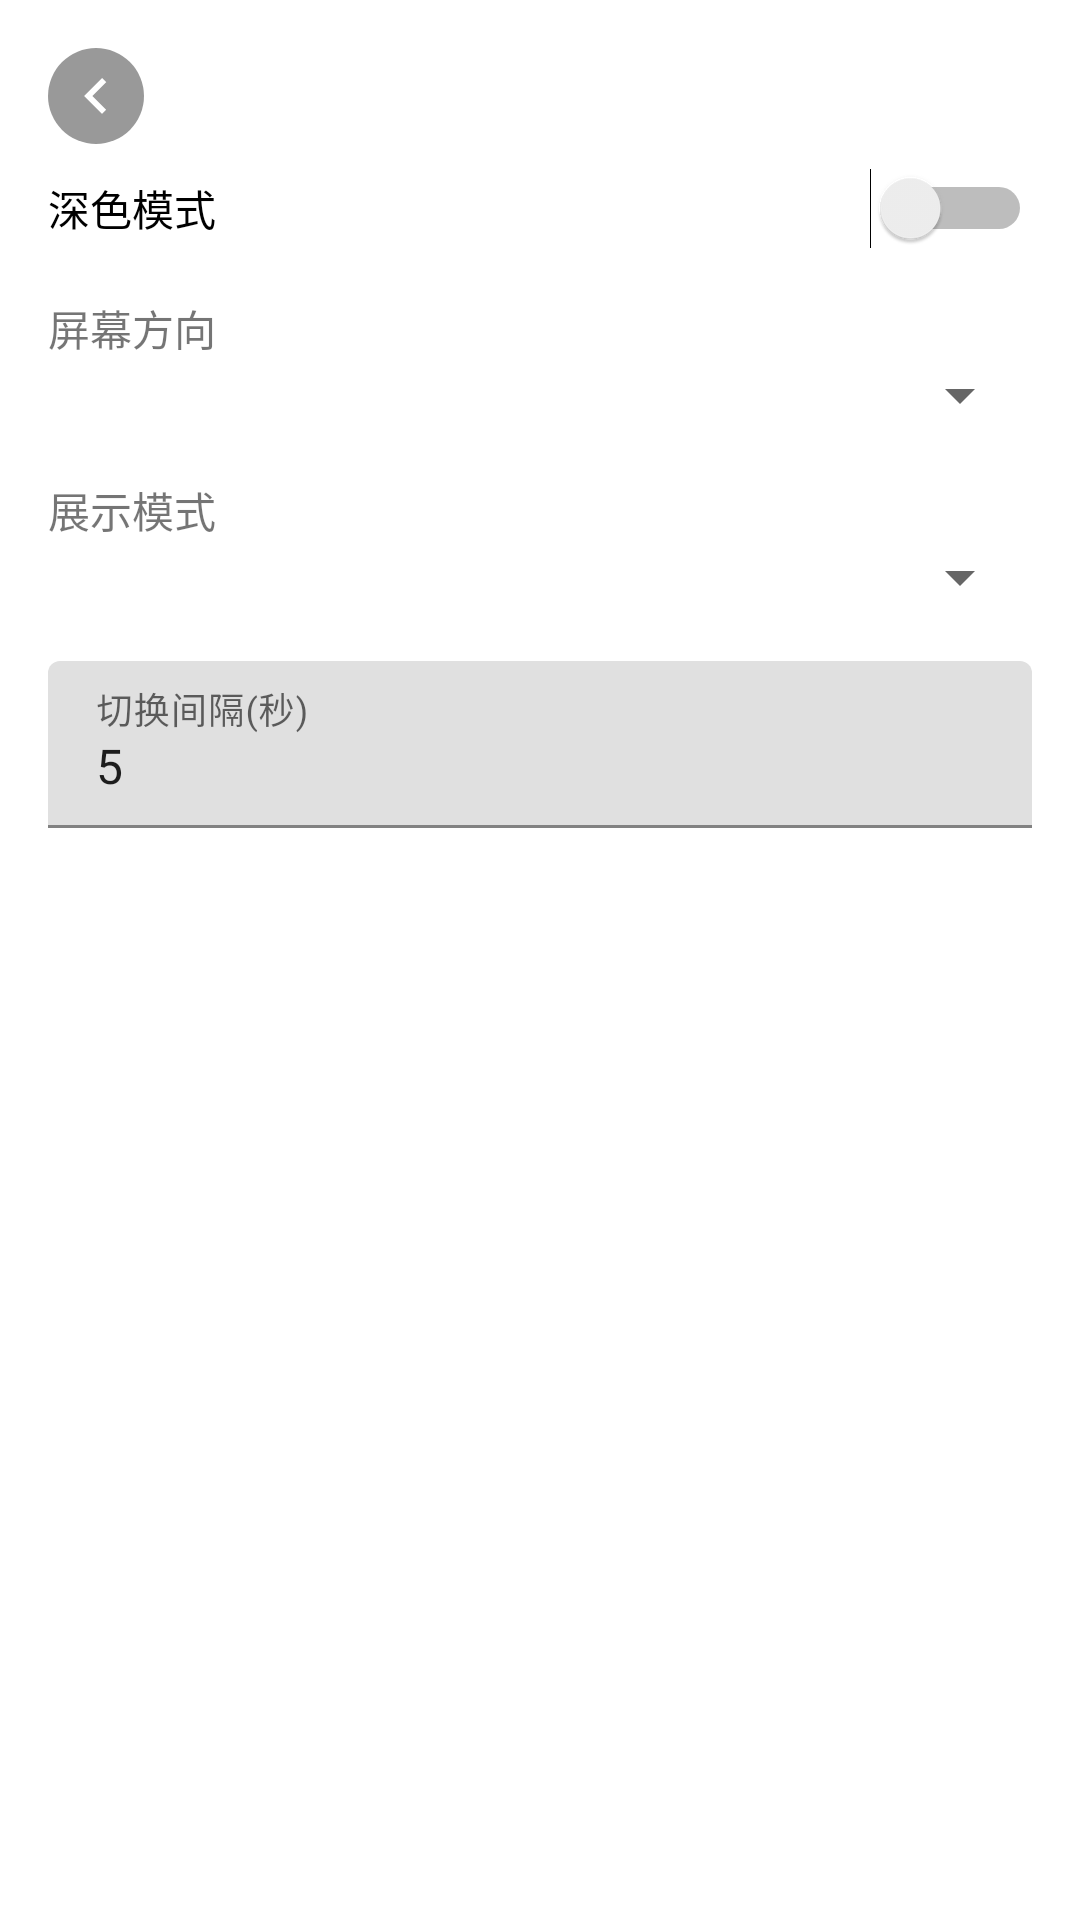

Icons on this 1080px x 1920px Android screen, each with its box as (x1, y1, x2, y2):
返回: (48, 48, 144, 144)
